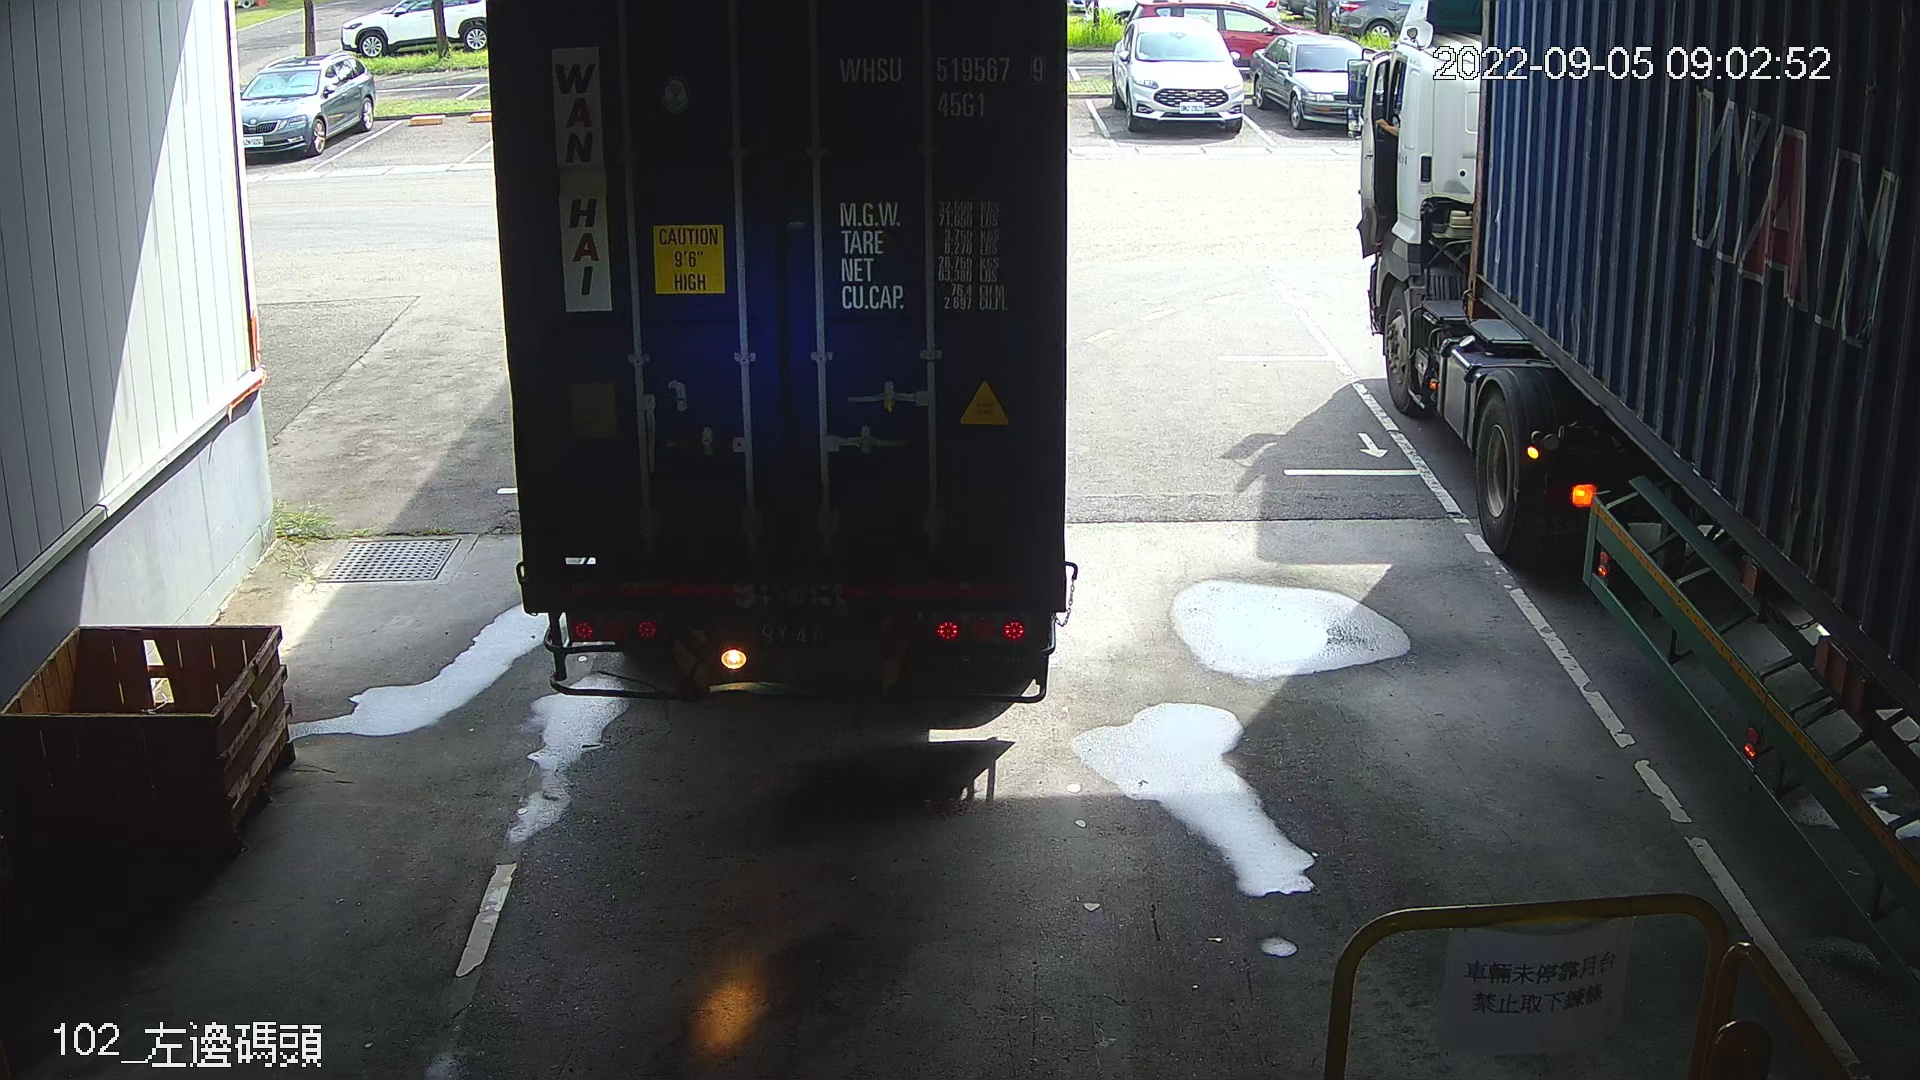container: (833, 42, 1054, 127)
